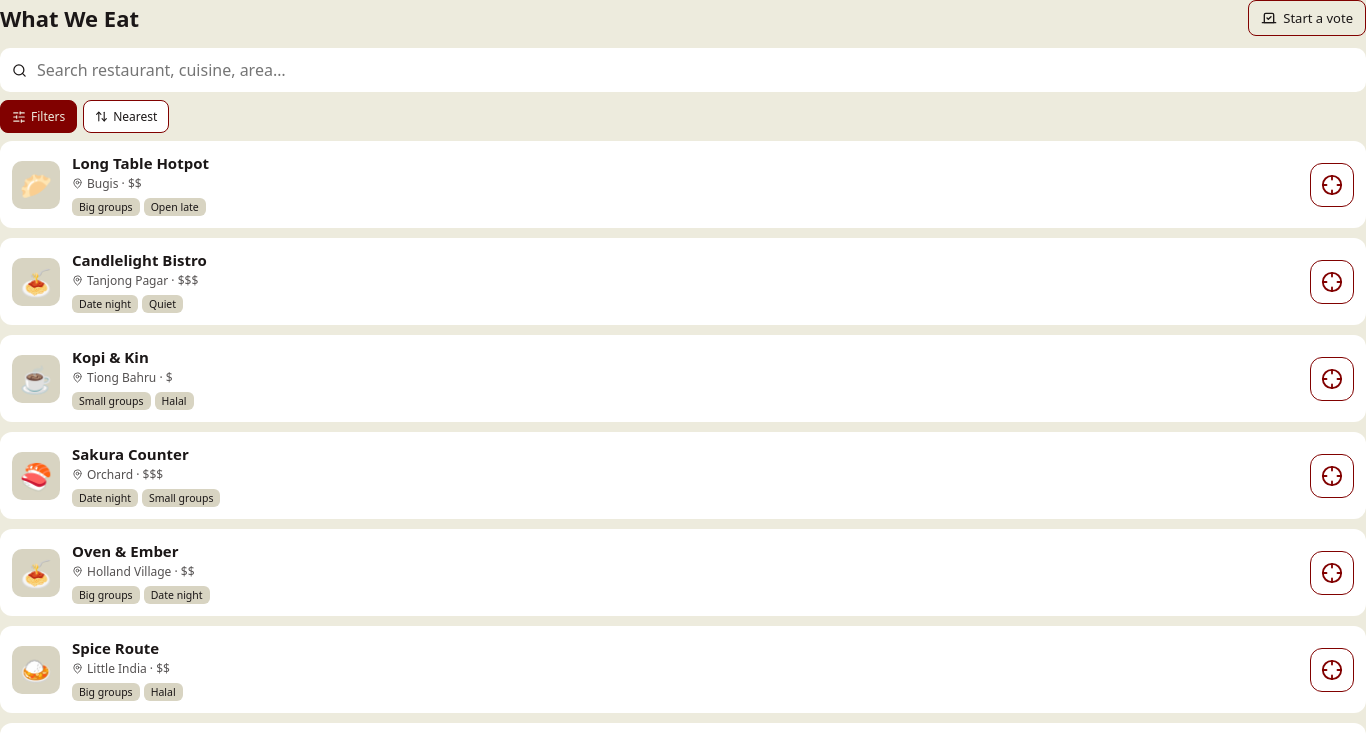
it: typing in search narrows the list
expect the link "Long Table Hotpot" is shown: met, box [72,153,209,173]
In the search field with placeholder "Search restaurant, cuisine, area…": x=694, y=70 [35,58,1354,82], type "hotpot"
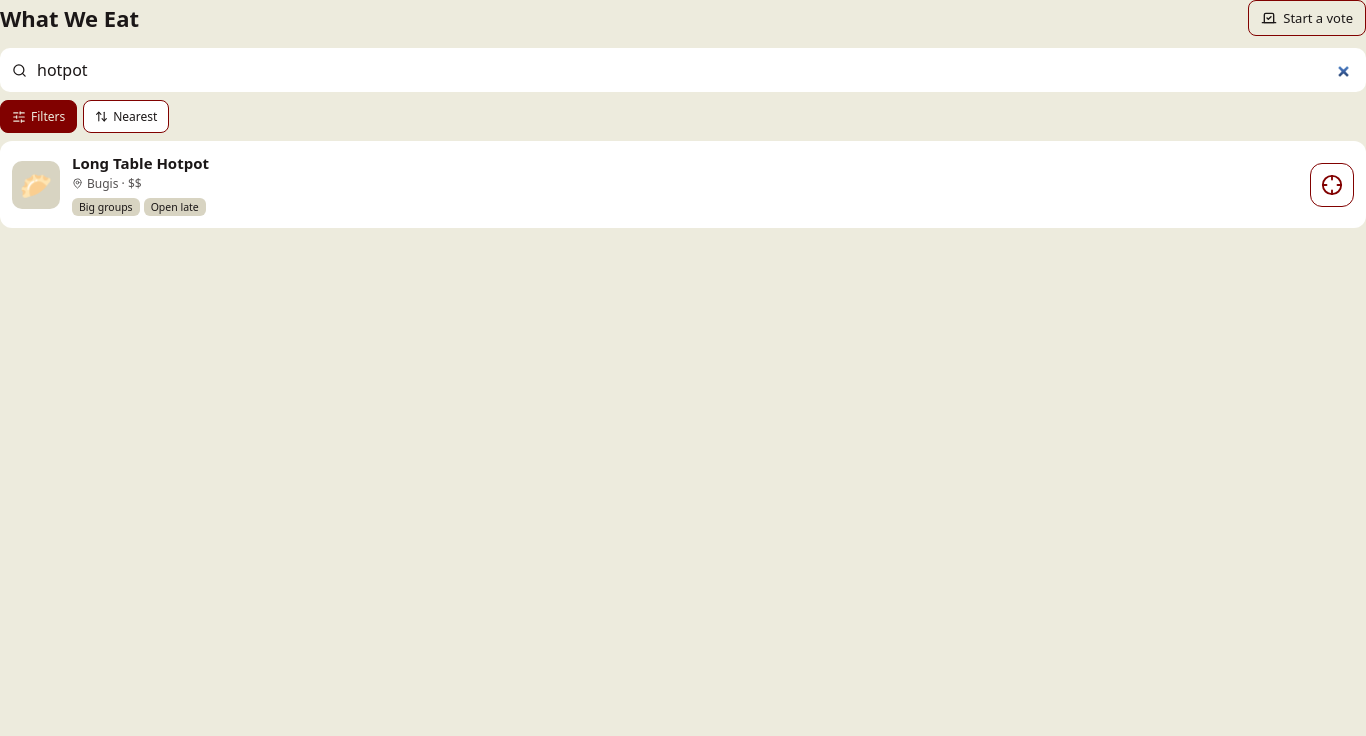
expect the link "Long Table Hotpot" is shown: met, box [72,153,209,173]
expect the link "Kopi & Kin" is gone: met
